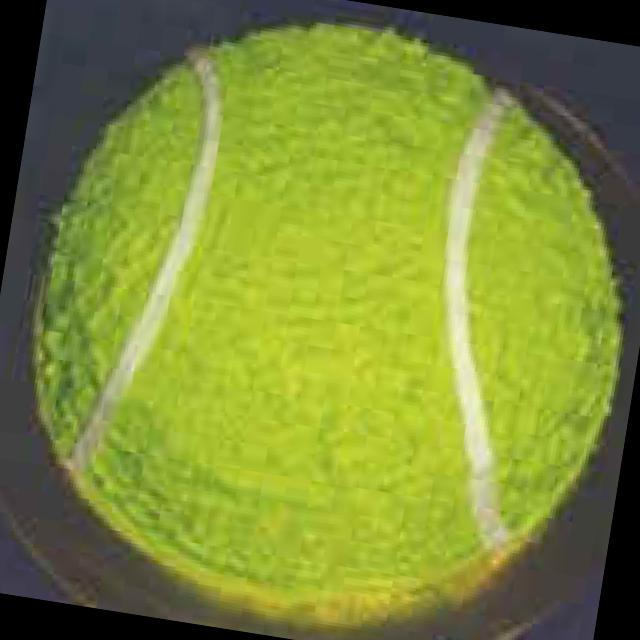Tennis Ball: (30, 22, 622, 631)
